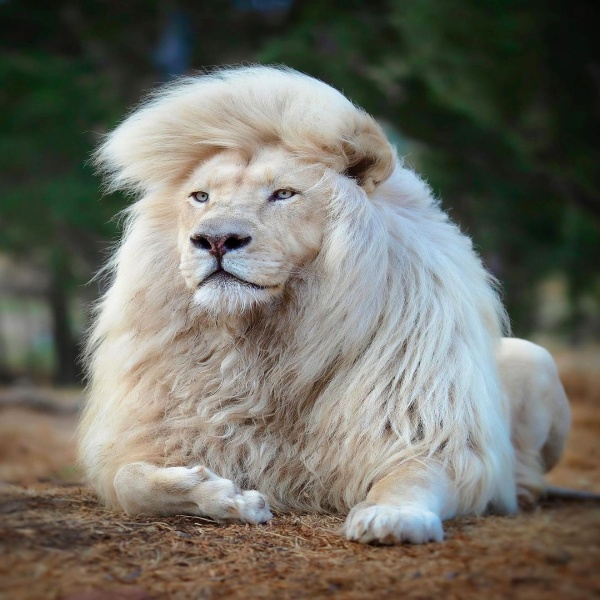Lion: (77, 62, 574, 552)
